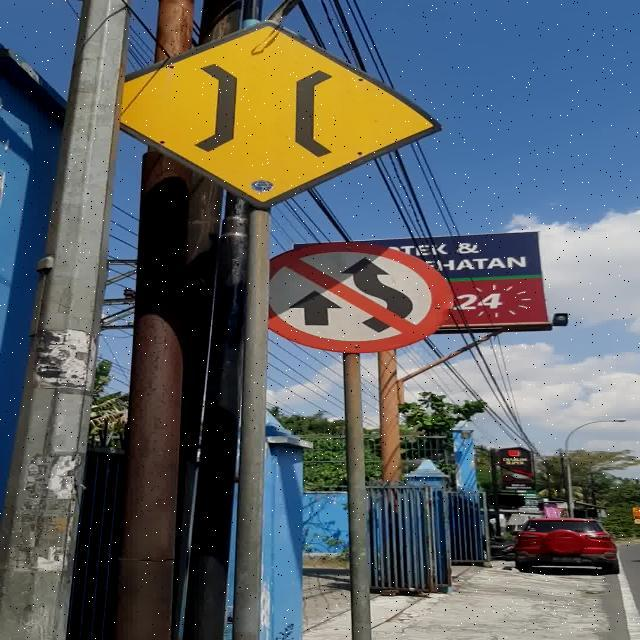Dilarang Mendahului: (271, 242, 454, 353)
